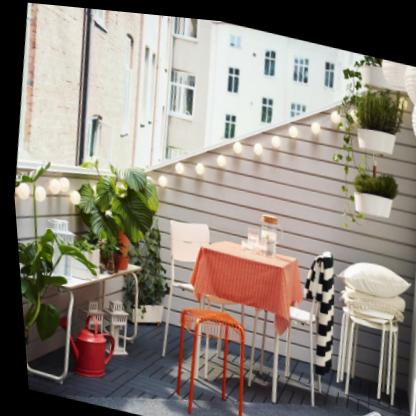Table: (172, 225, 305, 404)
